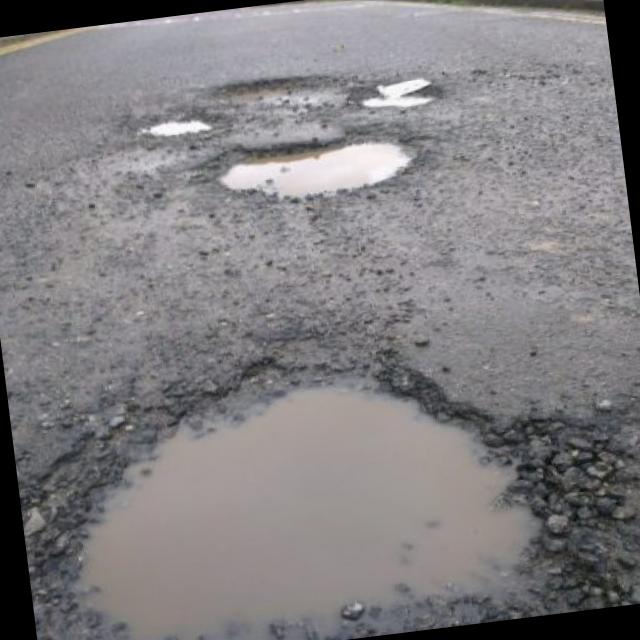bad-road: (8, 306, 640, 640), (198, 119, 432, 210), (212, 64, 354, 119), (118, 108, 222, 146), (358, 72, 446, 115)
